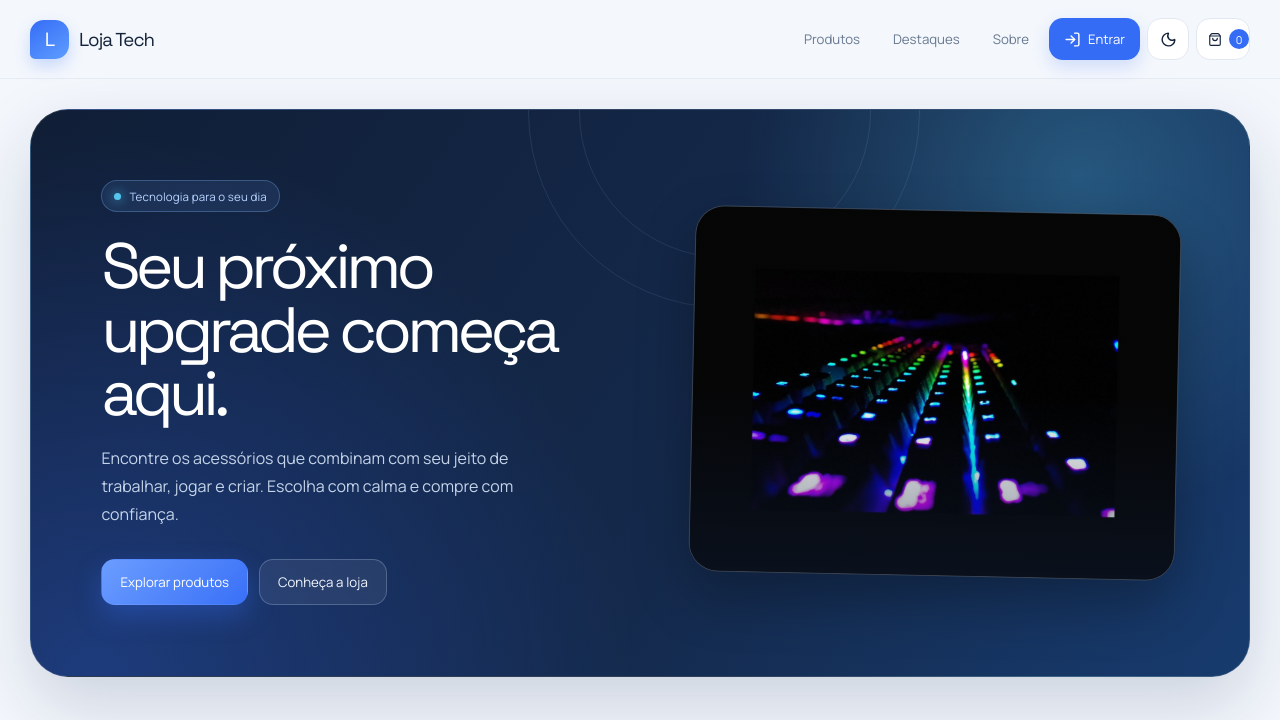
login com e-mail inexistente › mantém o e-mail digitado ao seguir para a criação de conta
This screenshot has width=1280, height=720.
Step 1. Click the button "Entrar" → x=1094, y=39, box [1049, 18, 1140, 60]
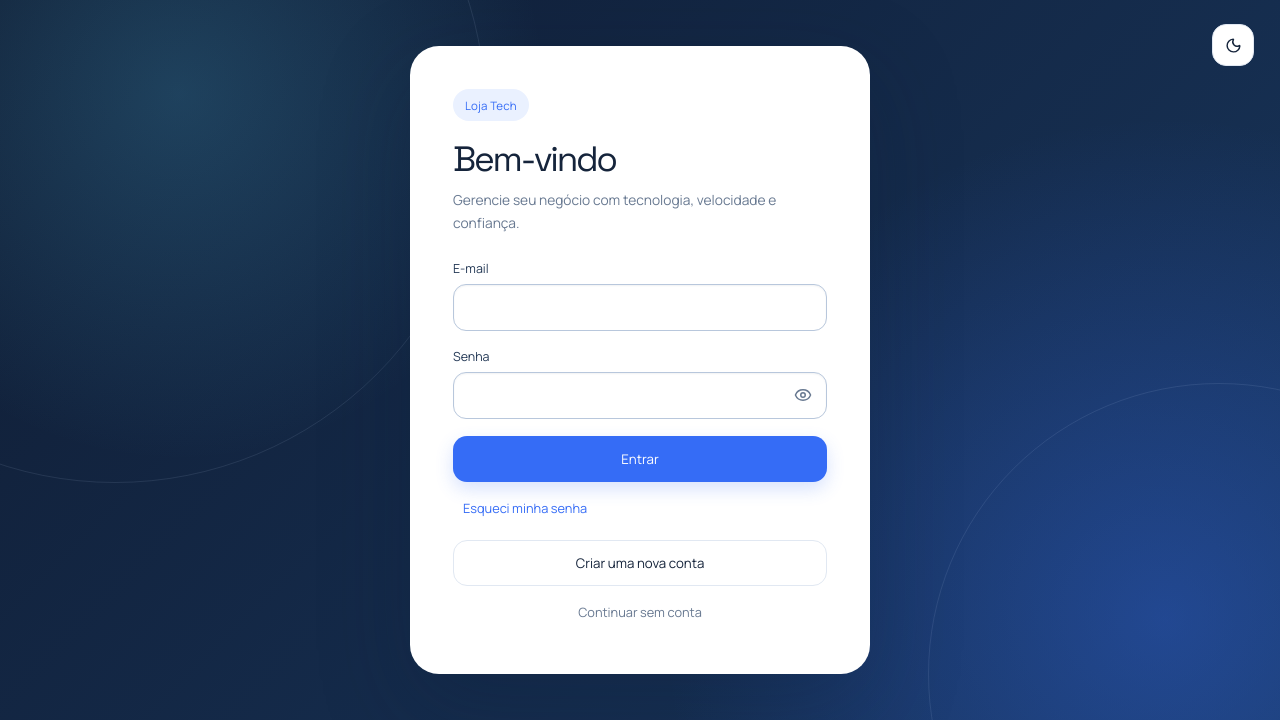
Step 2. Type "ninguem@exemplo.com" into the field labelled "E-mail" → x=640, y=307, box [453, 284, 827, 331]
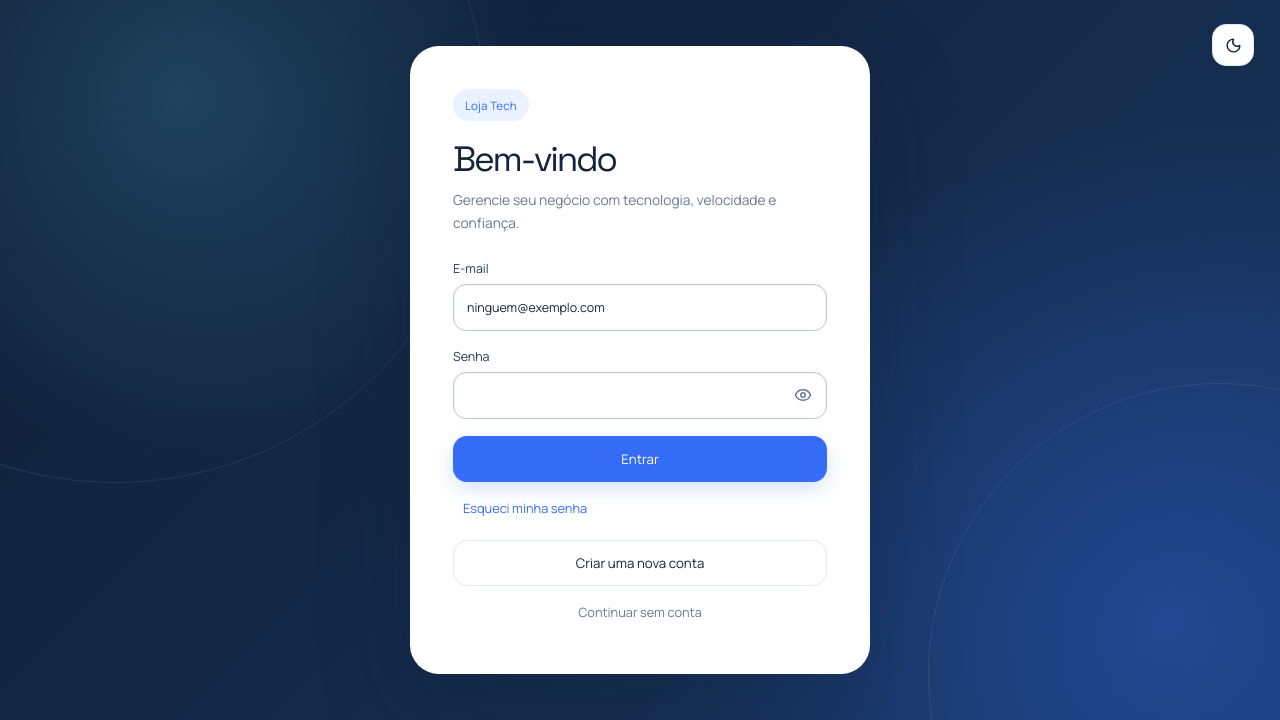
Step 3. Type "senhaErrada1" into the password field labelled "Senha" → x=640, y=395, box [453, 372, 827, 419]
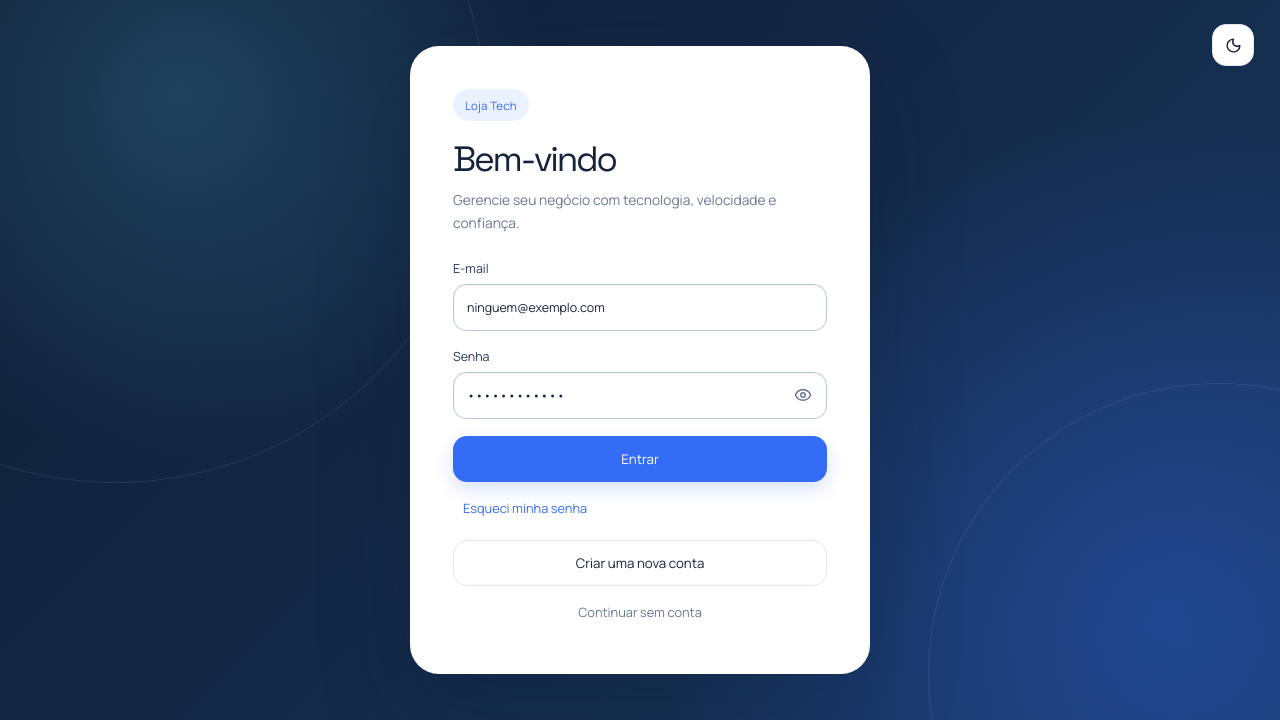
Step 4. Click the button "Entrar" → x=640, y=459, box [453, 436, 827, 482]
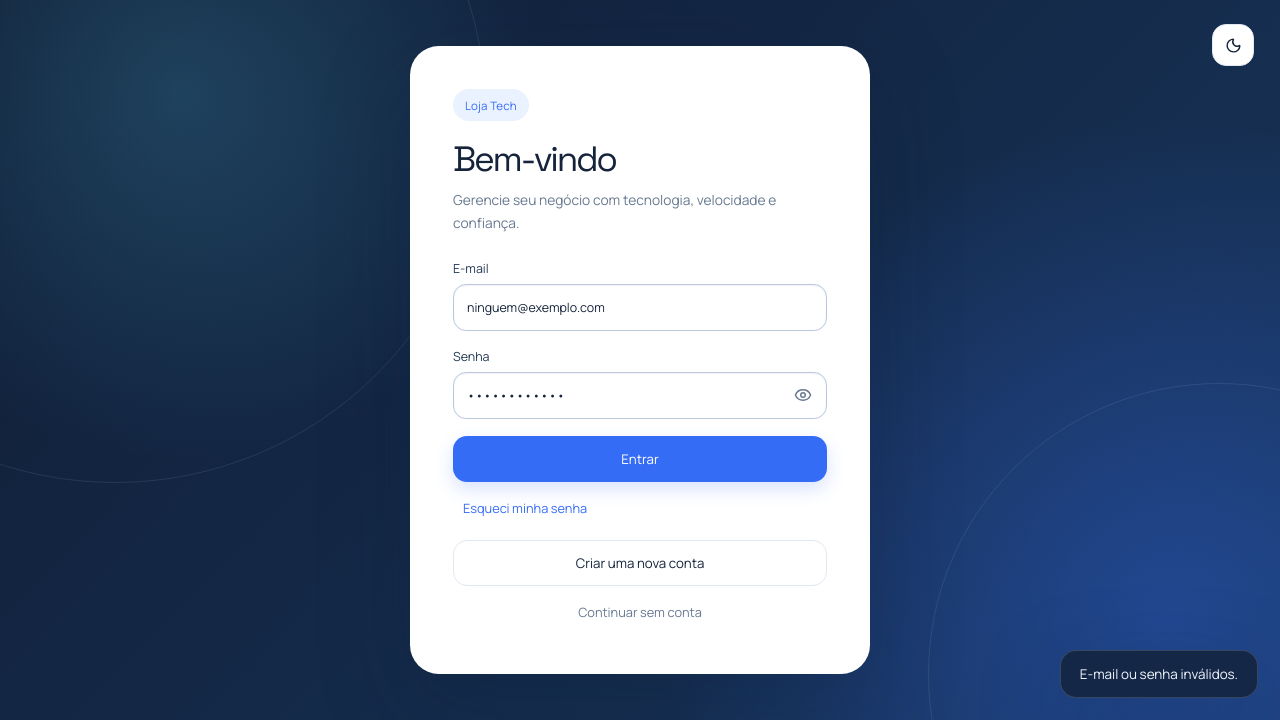
Now the message "E-mail ou senha inválidos." is shown, box [1060, 650, 1258, 698]
Step 5. Click the button "Criar uma nova conta" → x=640, y=563, box [453, 540, 827, 586]
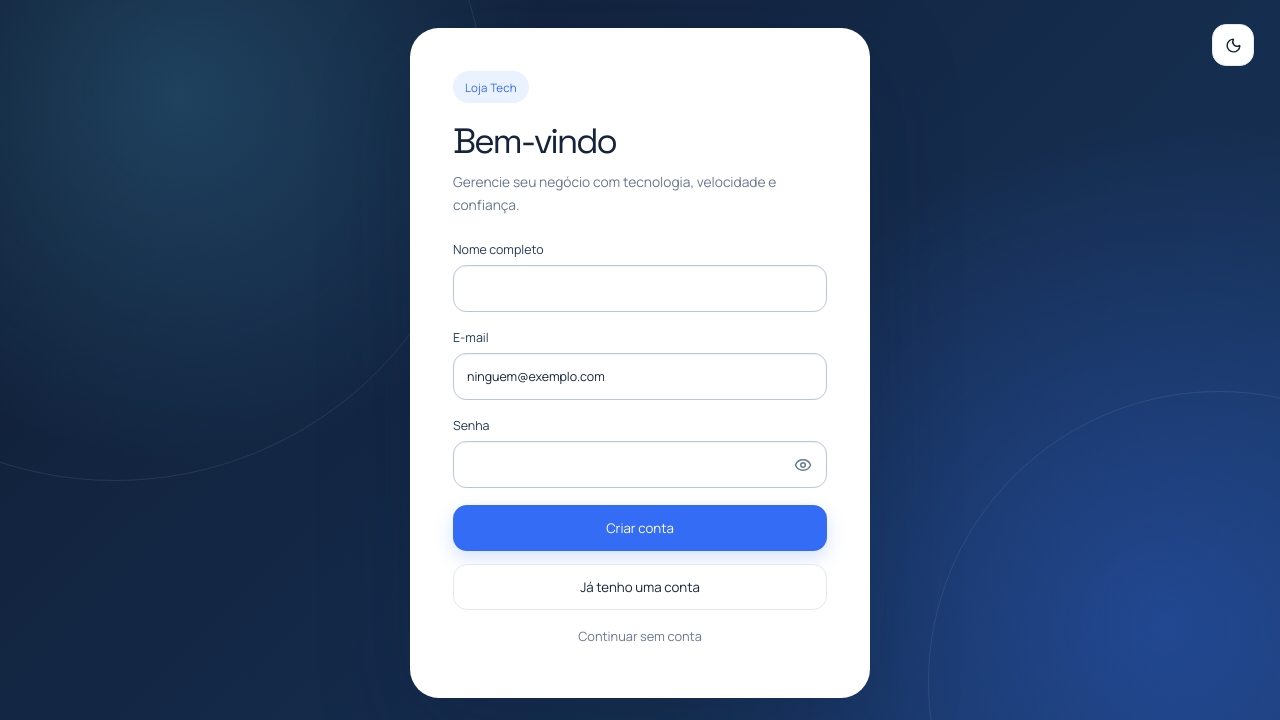
Now the message "E-mail ou senha inválidos." is gone
